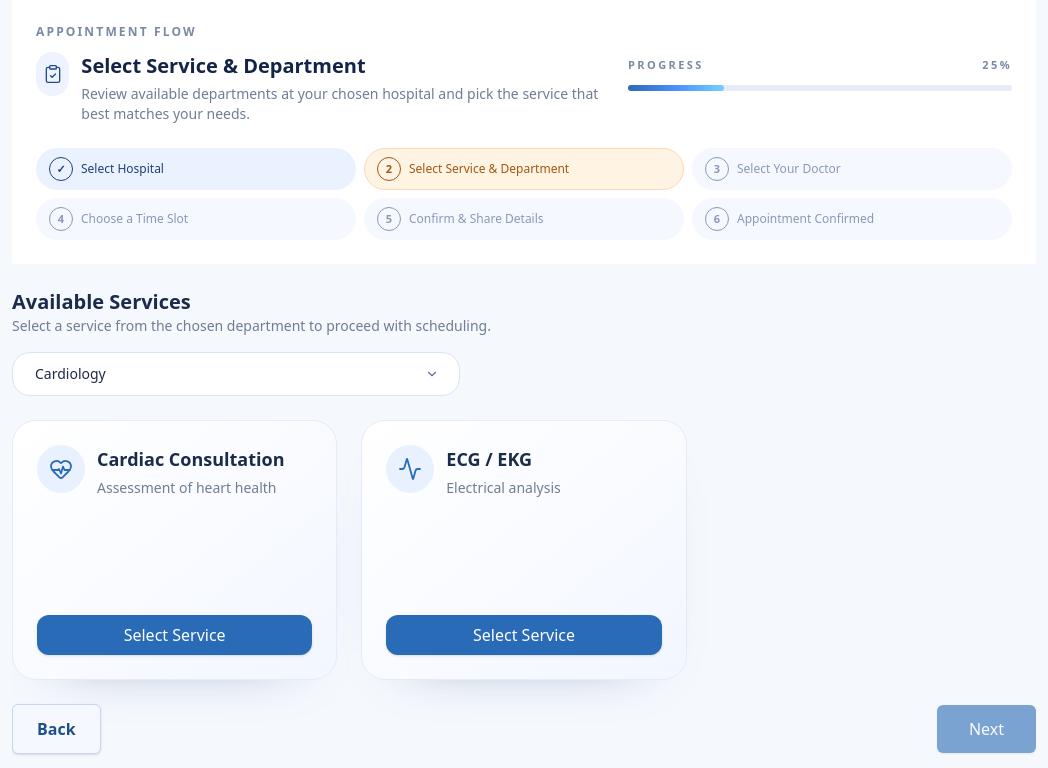
Test case: SelectDepartment › selecting a service highlights its card
This screenshot has width=1048, height=768.
What coordinates should you click on to do the following:
click the button "Select Service" below "Assessment of heart health"
I would click on:
 (175, 635)
Its box is [37, 615, 312, 655].
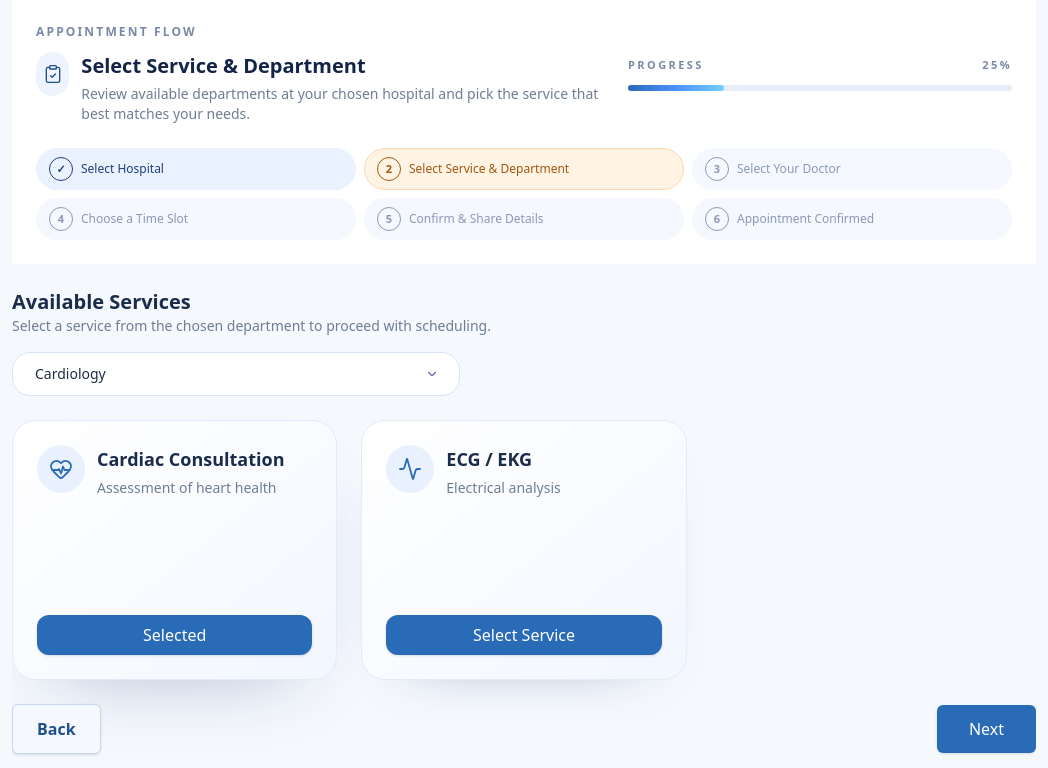
expect the button "Selected" is shown: met, box [37, 615, 312, 655]
